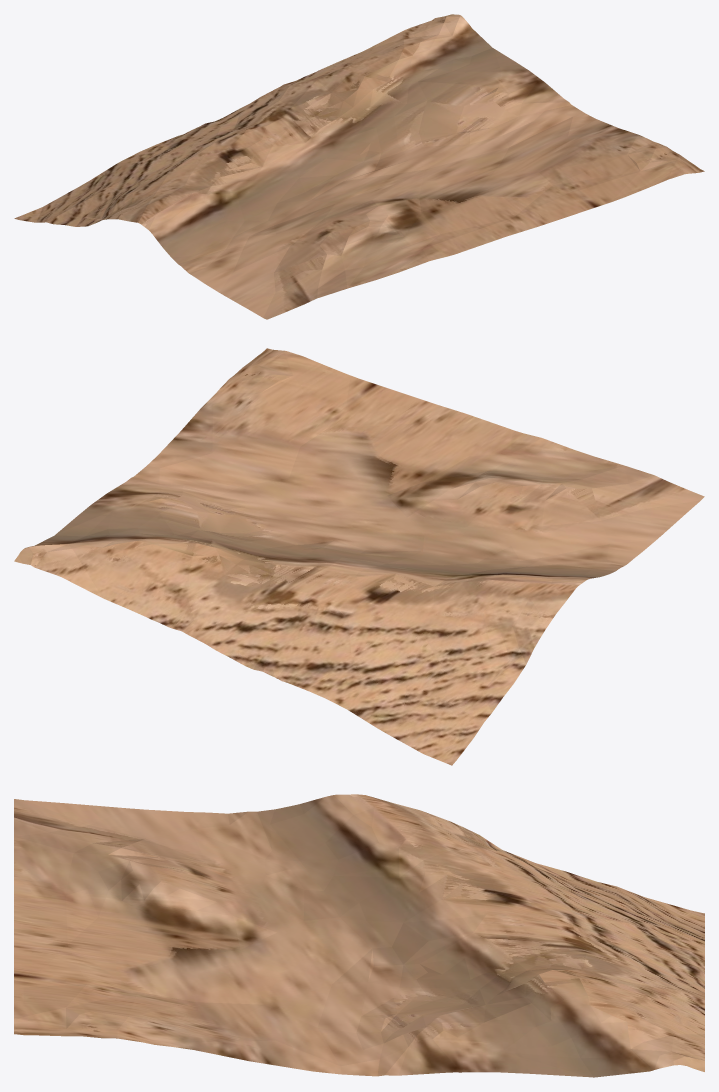
The picture shows the model from 3 angles, top to bottom: view 1: azimuth 30°, elevation 25°; view 2: azimuth 150°, elevation 25°; view 3: azimuth 270°, elevation 25°; orthographic projection. The views are drawn at different scales.
Bounding box in the file's own units: 1.04 × 0.2905 × 1.04.
3 materials, 3 textured.
